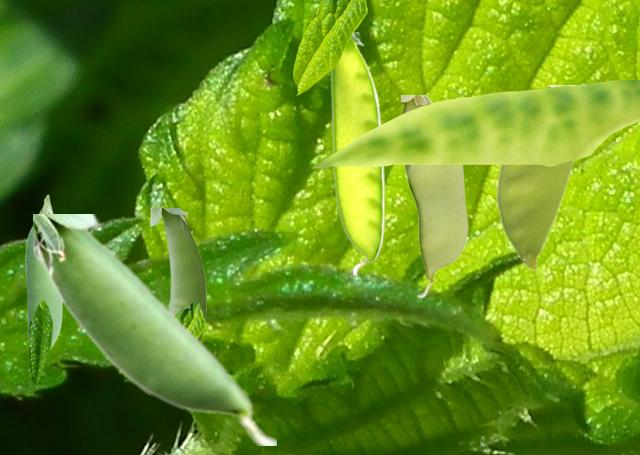pea: (33, 214, 275, 444), (496, 85, 574, 269), (401, 95, 467, 297), (329, 32, 383, 275), (150, 208, 205, 339), (25, 194, 61, 349)
